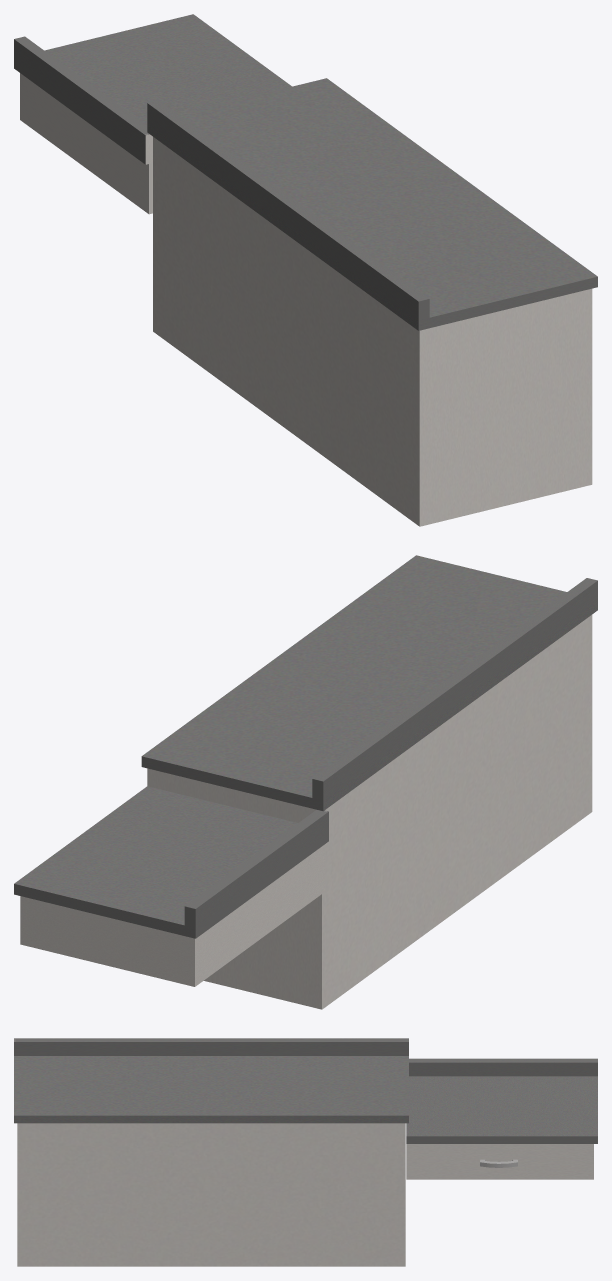
Rendered from Counter.FBX.
3 views of the same model, one above another, from view 1: azimuth 30°, elevation 25°; view 2: azimuth 150°, elevation 25°; view 3: azimuth 270°, elevation 25° (orthographic). The views are drawn at different scales.
Visible parts, largest first — view 1: Counter; view 2: Counter; view 3: Counter.
Part boxes in pixels (x1,y1,x2,y2): Counter: (14,14,597,526); Counter: (14,555,597,1009); Counter: (14,1038,597,1266).
Size of the model in its own units: 17.89 by 20.73 by 66.13.
